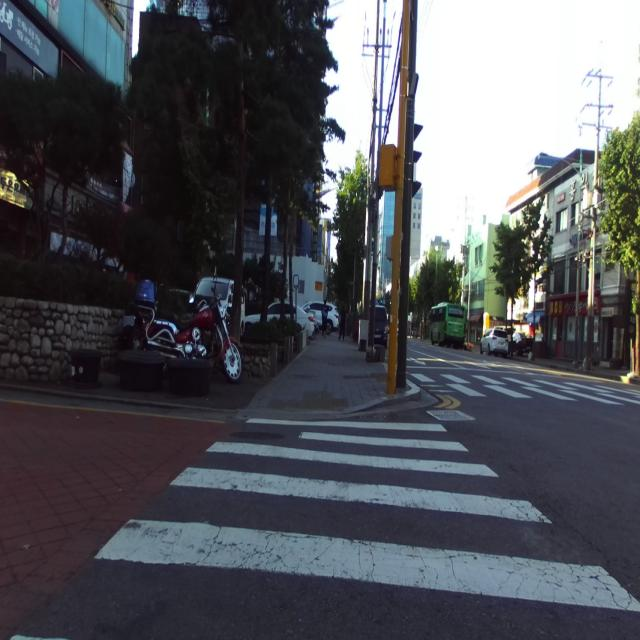횡단보도: (93, 418, 640, 611), (403, 371, 639, 407)
